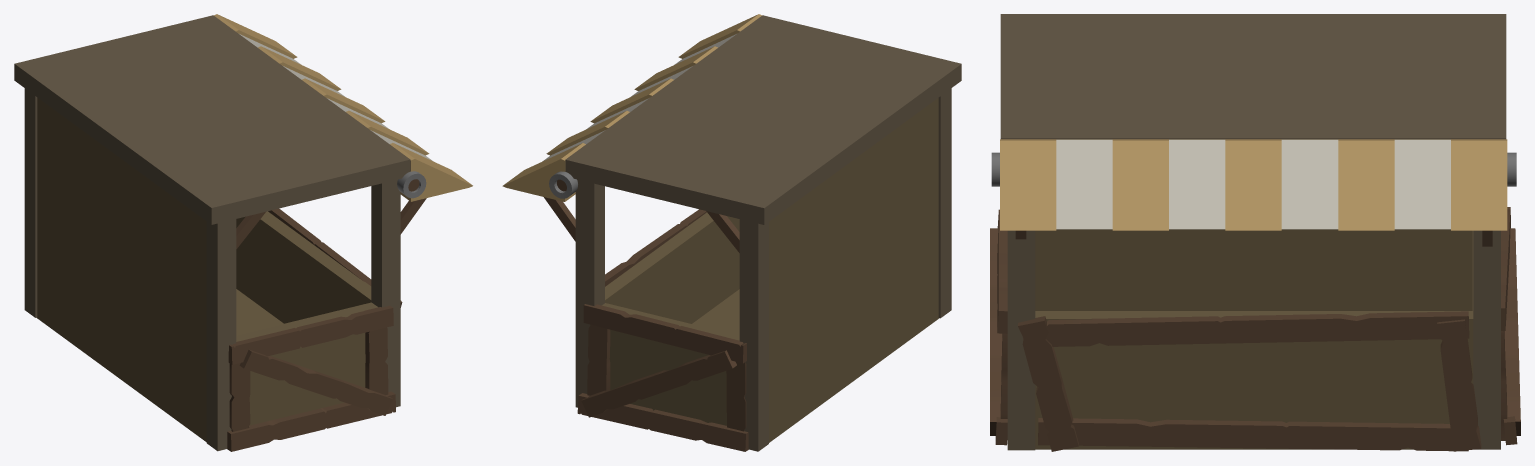
File: MARKET STALL yellow.fbx
The picture shows the model from 3 angles, left to right: view 1: azimuth 30°, elevation 25°; view 2: azimuth 150°, elevation 25°; view 3: azimuth 270°, elevation 25°; orthographic projection. The views are drawn at different scales.
Parts seen in each view (by area): view 1: pCube1, pCube6, pCube5, pCube7, pCube2, pCube16, pCube20, pCube17, pCube4, pCube13, pCube14, pCube9 (+1 smaller); view 2: pCube1, pCube6, pCube4, pCube7, pCube3, pCube19, pCube18, pCube21, pCube5, pCube15, pCube12, pCube9 (+3 smaller); view 3: pCube1, pCube6, pCube7, pCube9, pCube8, pCube3, pCube2, pCube10, pCube11, pCube21, pCube20, pCube16 (+3 smaller).
Boxes of the visible parts, left/top/right/bottom form: pCube1: left=36, top=97, right=377, bottom=441; pCube6: left=14, top=15, right=410, bottom=224; pCube5: left=206, top=219, right=236, bottom=451; pCube7: left=214, top=14, right=472, bottom=201; pCube2: left=371, top=179, right=400, bottom=407; pCube16: left=228, top=305, right=393, bottom=364; pCube20: left=239, top=349, right=392, bottom=415; pCube17: left=227, top=391, right=395, bottom=451; pCube4: left=24, top=88, right=37, bottom=317; pCube13: left=364, top=307, right=388, bottom=394; pCube14: left=229, top=363, right=250, bottom=431; pCube9: left=268, top=208, right=371, bottom=285; pCube1: left=602, top=98, right=939, bottom=442; pCube6: left=565, top=15, right=961, bottom=224; pCube4: left=739, top=219, right=768, bottom=451; pCube7: left=502, top=14, right=761, bottom=201; pCube3: left=575, top=179, right=604, bottom=407; pCube19: left=583, top=304, right=746, bottom=363; pCube18: left=577, top=393, right=748, bottom=451; pCube21: left=581, top=350, right=736, bottom=417; pCube5: left=938, top=88, right=951, bottom=318; pCube15: left=587, top=324, right=610, bottom=395; pCube12: left=726, top=362, right=746, bottom=431; pCube9: left=605, top=209, right=706, bottom=286; pCube1: left=1035, top=229, right=1473, bottom=449; pCube6: left=1000, top=14, right=1506, bottom=139; pCube7: left=1000, top=139, right=1507, bottom=230; pCube9: left=1046, top=311, right=1469, bottom=346; pCube8: left=1038, top=418, right=1468, bottom=451; pCube3: left=1473, top=230, right=1500, bottom=449; pCube2: left=1007, top=230, right=1035, bottom=450; pCube10: left=1017, top=316, right=1078, bottom=451; pCube11: left=1437, top=319, right=1481, bottom=451; pCube21: left=1504, top=228, right=1520, bottom=435; pCube20: left=990, top=228, right=1002, bottom=435; pCube16: left=997, top=209, right=1007, bottom=333.
Size of the model in its own units: 11.33 by 10.25 by 15.53.
